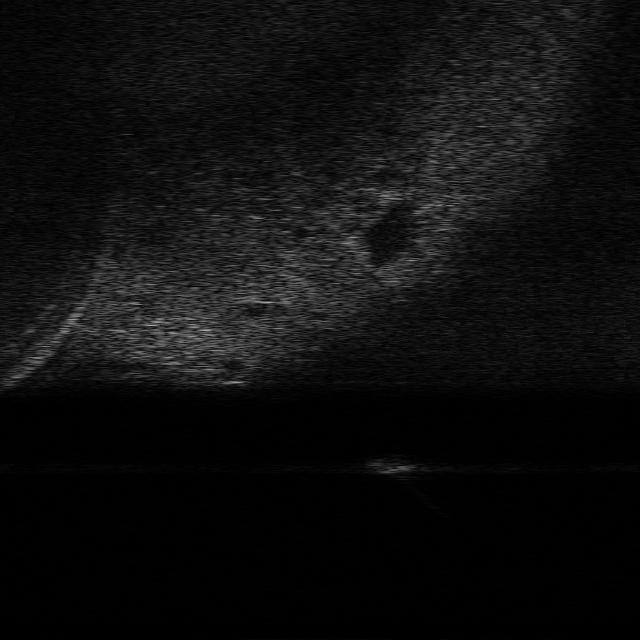cube: (364, 454, 424, 474)
